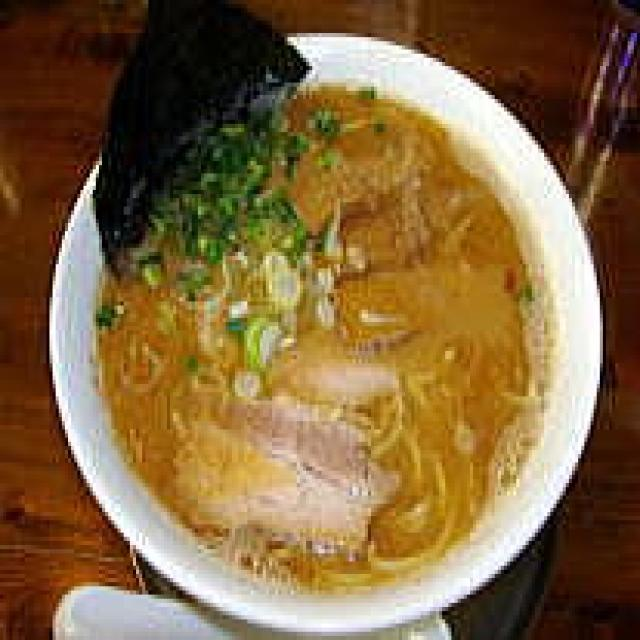面条主食: (46, 38, 600, 620)
